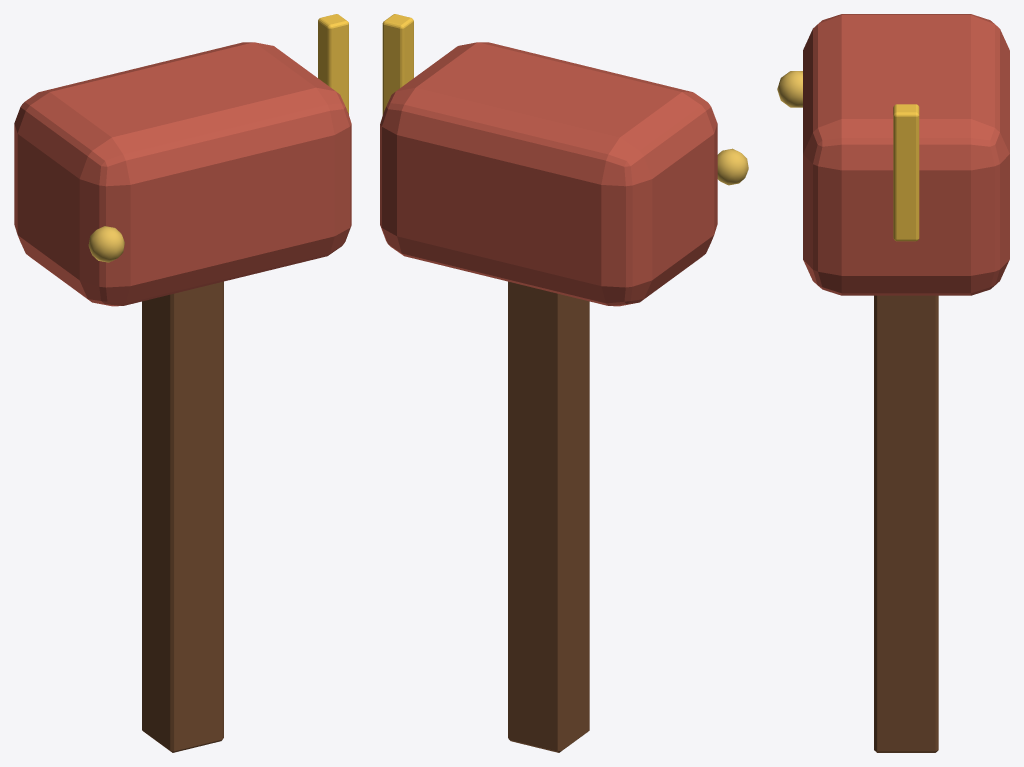
File: mailbox.glb
3 renders of one model, left to right at view 1: azimuth 30°, elevation 25°; view 2: azimuth 150°, elevation 25°; view 3: azimuth 270°, elevation 25°, orthographic. The views are drawn at different scales.
Visible parts, largest first — view 1: box, post, flag, catch; view 2: box, post, flag, catch; view 3: box, post, flag, catch.
Part boxes in pixels (x1,y1,x2,y2): box: [14, 42, 351, 306]; post: [142, 281, 223, 752]; flag: [318, 14, 348, 114]; catch: [88, 226, 124, 262]; box: [380, 42, 717, 306]; post: [508, 281, 589, 752]; flag: [382, 14, 413, 114]; catch: [717, 148, 748, 185]; box: [803, 14, 1009, 295]; post: [874, 295, 938, 752]; flag: [893, 104, 919, 241]; catch: [777, 71, 802, 107].
Size of the model in its own units: 0.5685 by 1.21 by 0.36.
